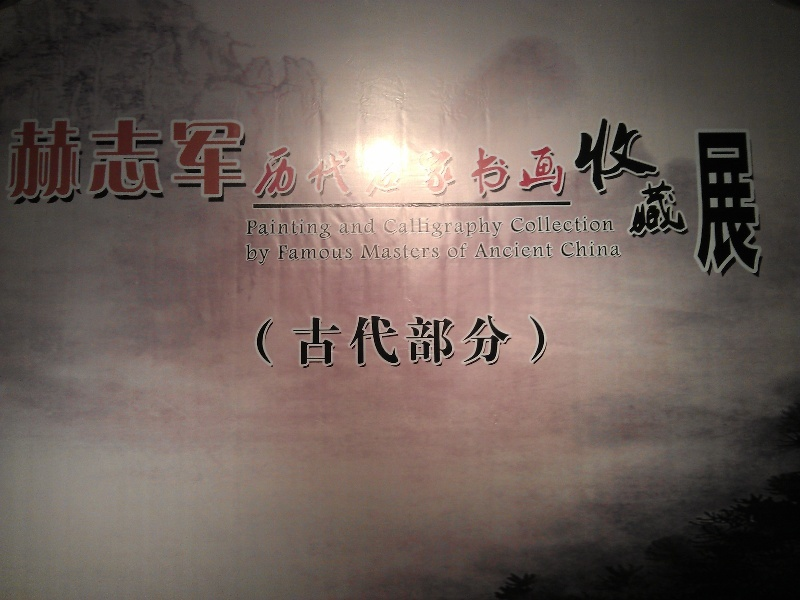text: (577, 117, 592, 278), (593, 117, 608, 278), (609, 117, 624, 278), (625, 117, 640, 278), (641, 117, 656, 278), (657, 117, 672, 278), (673, 117, 688, 278), (689, 117, 704, 278), (705, 117, 720, 278), (721, 117, 736, 278), (737, 117, 752, 278), (753, 117, 763, 278), (17, 120, 32, 198), (33, 120, 48, 198), (49, 120, 64, 198), (65, 120, 80, 198), (81, 120, 96, 198), (97, 120, 112, 198), (113, 120, 128, 198), (129, 120, 144, 198), (145, 120, 160, 198), (161, 120, 176, 198), (177, 120, 192, 198), (193, 120, 208, 198), (209, 120, 224, 198), (225, 120, 240, 198), (257, 313, 272, 369), (273, 313, 288, 369), (289, 313, 304, 369), (305, 313, 320, 369), (321, 313, 336, 369), (337, 313, 352, 369), (353, 313, 368, 369), (369, 313, 384, 369), (385, 313, 400, 369), (401, 313, 416, 369), (417, 313, 432, 369), (433, 313, 448, 369), (449, 313, 464, 369), (465, 313, 480, 369), (481, 313, 496, 369), (497, 313, 512, 369), (513, 313, 528, 369), (529, 313, 544, 369), (257, 147, 272, 198), (273, 147, 288, 198), (289, 147, 304, 198), (305, 147, 320, 198), (321, 147, 336, 198), (337, 147, 352, 198), (353, 147, 368, 198), (369, 147, 384, 198), (385, 147, 400, 198), (401, 147, 416, 198), (417, 147, 432, 198), (433, 147, 448, 198), (449, 147, 464, 198), (465, 147, 480, 198), (481, 147, 496, 198), (497, 147, 512, 198), (513, 147, 528, 198), (529, 147, 544, 198), (545, 147, 560, 198), (9, 120, 16, 198), (385, 216, 400, 239), (401, 216, 416, 239), (417, 216, 432, 239), (433, 216, 448, 239), (449, 216, 464, 239), (465, 216, 480, 239), (481, 216, 496, 239), (257, 243, 272, 265), (574, 117, 576, 278), (257, 219, 272, 240), (273, 219, 288, 240), (289, 219, 304, 240), (305, 219, 320, 240), (241, 120, 245, 198), (513, 215, 528, 235), (529, 215, 544, 235), (545, 215, 560, 235), (561, 215, 576, 235), (577, 215, 592, 235), (593, 215, 608, 235), (289, 243, 304, 263), (305, 243, 320, 263), (321, 243, 336, 263), (337, 243, 352, 263), (561, 240, 576, 260), (577, 240, 592, 260), (593, 240, 608, 260), (353, 218, 368, 237), (369, 243, 384, 262), (385, 243, 400, 262), (401, 243, 416, 262), (417, 243, 432, 262), (481, 241, 496, 260), (497, 241, 512, 260), (513, 241, 528, 260), (529, 241, 544, 260), (609, 240, 623, 260), (449, 242, 464, 260), (339, 218, 352, 237), (245, 243, 256, 265), (277, 243, 288, 263), (246, 219, 256, 240), (321, 219, 331, 240), (561, 147, 565, 198), (545, 241, 555, 260), (545, 313, 548, 369), (497, 216, 504, 239), (369, 218, 377, 237), (360, 243, 368, 262), (433, 243, 441, 262), (609, 215, 615, 235), (474, 241, 480, 260), (254, 313, 256, 369), (465, 242, 469, 260), (255, 147, 256, 198), (353, 243, 355, 263), (511, 215, 512, 235), (447, 242, 448, 260)
